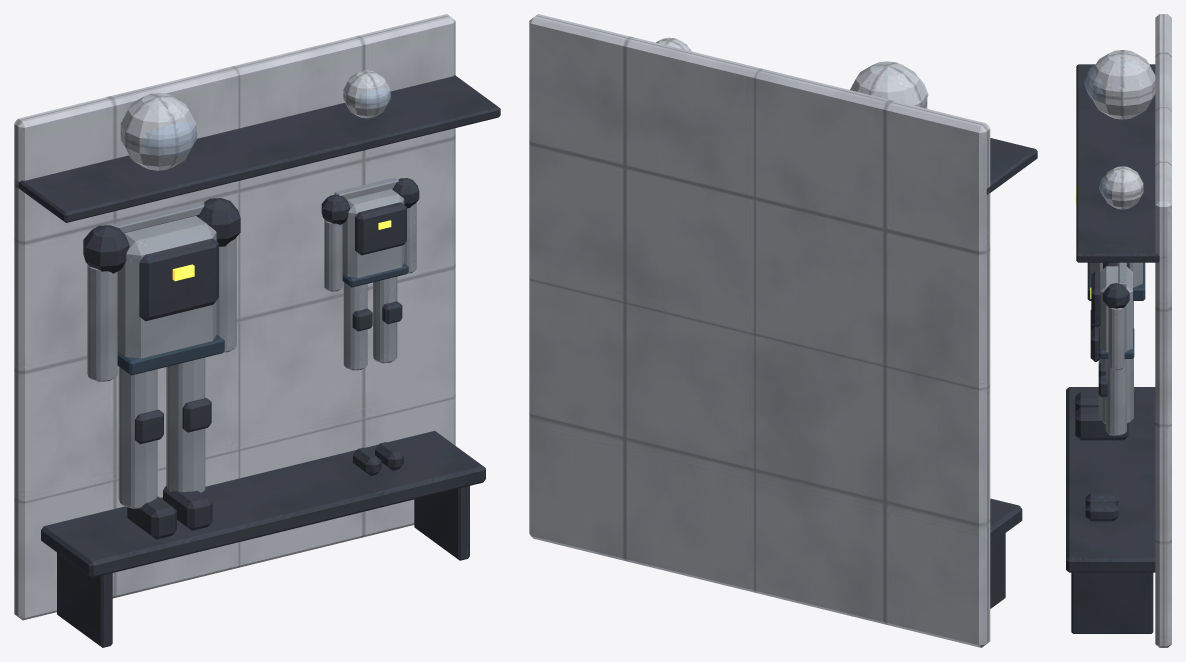
File: suit-rack.glb
3 views of the same model, side by side, from view 1: azimuth 30°, elevation 25°; view 2: azimuth 150°, elevation 25°; view 3: azimuth 270°, elevation 25° (orthographic). The views are drawn at different scales.
Visible parts, largest first — view 1: BackPanel, Bench, Shelf, GrownupTorso, GrownupChestPlate, GrownupLeg-1, GrownupHelmet, GrownupLeg1, BenchLeg-0.9, GrownupArm-1, BenchLeg0.9, KidTorso (+17 smaller); view 2: BackPanel, GrownupHelmet, Shelf, BenchLeg-0.9, Bench; view 3: Bench, Shelf, BackPanel, BenchLeg0.9, GrownupHelmet, KidLeg1, KidHelmet, KidTorso, GrownupBoot1, KidArm1, GrownupLeg1, KidBoot1 (+11 smaller).
Boxes of the visible parts, x1,y1,x2,y2 form: BackPanel: (14,14,455,620); Bench: (41,431,485,577); Shelf: (15,75,500,222); GrownupTorso: (117,216,216,358); GrownupChestPlate: (139,238,218,321); GrownupLeg-1: (118,366,157,508); GrownupHelmet: (120,93,196,170); GrownupLeg1: (166,357,205,492); BenchLeg-0.9: (57,552,112,647); GrownupArm-1: (87,264,117,381); BenchLeg0.9: (414,486,469,560); KidTorso: (342,189,404,278); BackPanel: (529,14,990,647); GrownupHelmet: (850,61,927,108); Shelf: (986,138,1037,195); BenchLeg-0.9: (990,533,1005,608); Bench: (990,498,1022,543); Bench: (1066,387,1155,572); Shelf: (1076,64,1163,262); BackPanel: (1155,14,1171,647); BenchLeg0.9: (1071,572,1153,633); GrownupHelmet: (1088,50,1155,119); KidLeg1: (1105,359,1126,436); KidHelmet: (1101,166,1143,209); KidTorso: (1100,266,1132,351); GrownupBoot1: (1075,407,1128,440); KidArm1: (1108,307,1124,370); GrownupLeg1: (1098,301,1133,423); KidBoot1: (1085,502,1118,521).
Size of the model in its own units: 2.2 by 2.46 by 0.515.
Materials: 7 (7 with a texture image).
